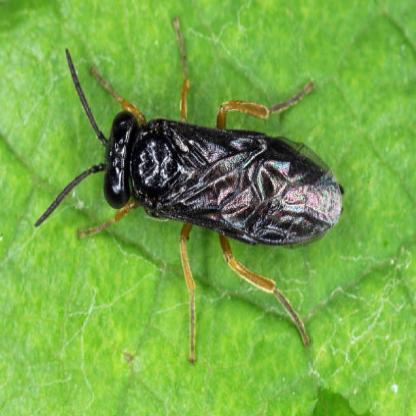sawfly: (45, 8, 342, 351)
